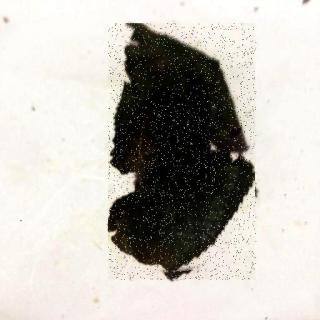Red Leaf Spot: (110, 25, 258, 282)
